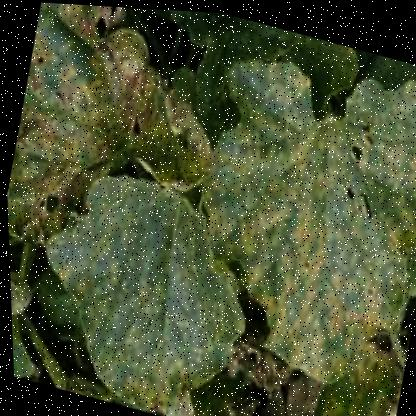Anthracnose: (248, 239, 387, 382), (2, 58, 99, 247), (90, 28, 191, 180)
